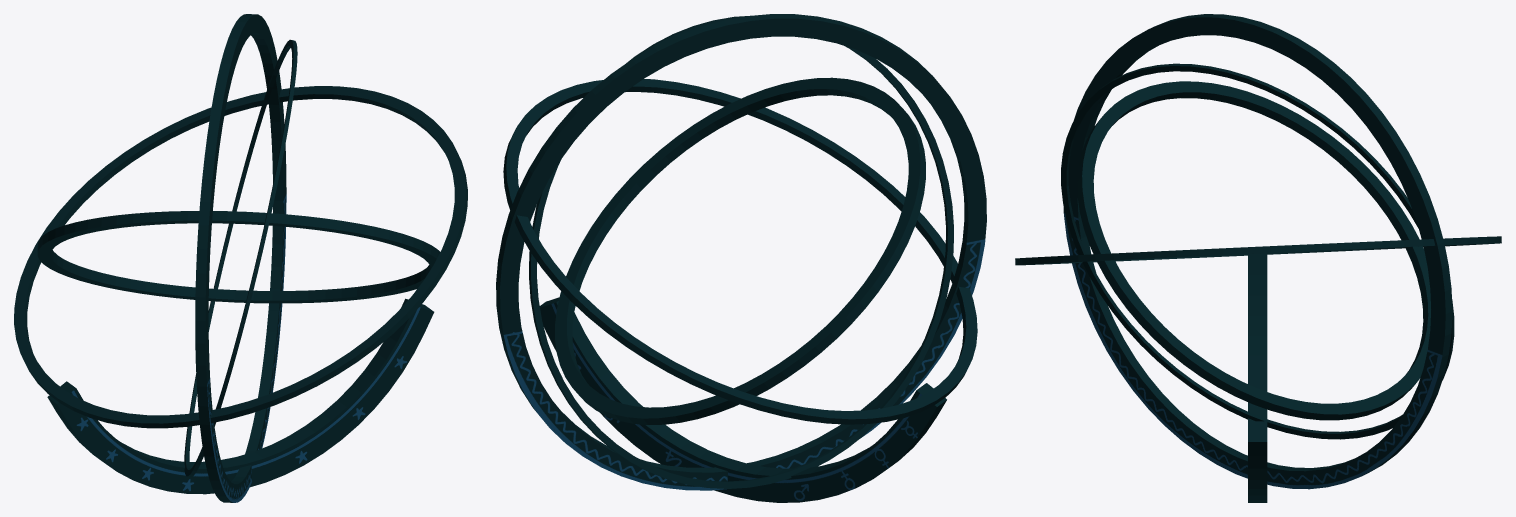
File: player_globe_v1.fbx
The picture shows the model from 3 angles, left to right: view 1: azimuth 30°, elevation 25°; view 2: azimuth 150°, elevation 25°; view 3: azimuth 270°, elevation 25°; orthographic projection. The views are drawn at different scales.
Parts seen in each view (by area): view 1: Globe; view 2: Globe; view 3: Globe.
Part boxes in pixels (x1,y1,x2,y2): Globe: (14, 14, 467, 502); Globe: (496, 14, 986, 502); Globe: (1015, 14, 1501, 502).
Size of the model in its own units: 1336 by 1507 by 1464.
Materials: 1 (1 with a texture image).
